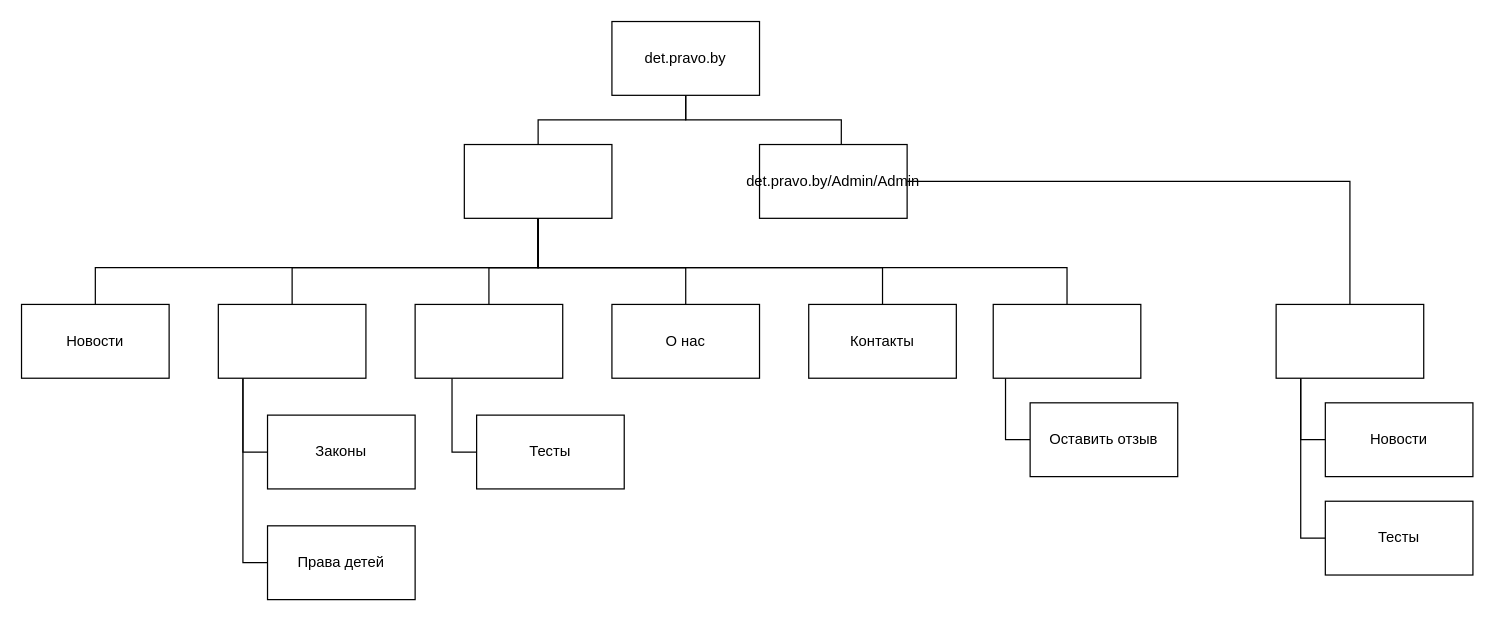
Some shapes in this 1494 by 621 pixel diagram are drawn without their labels. The shapes that lost their labels are listed below. From the top down, each one's centre as x and y in pixels, then its label:
the point at 537,180: Главная
the point at 291,340: Правовая библиотека
the point at 488,340: Игры
the point at 1066,340: Отзывы
the point at 1349,340: Админ-панель
